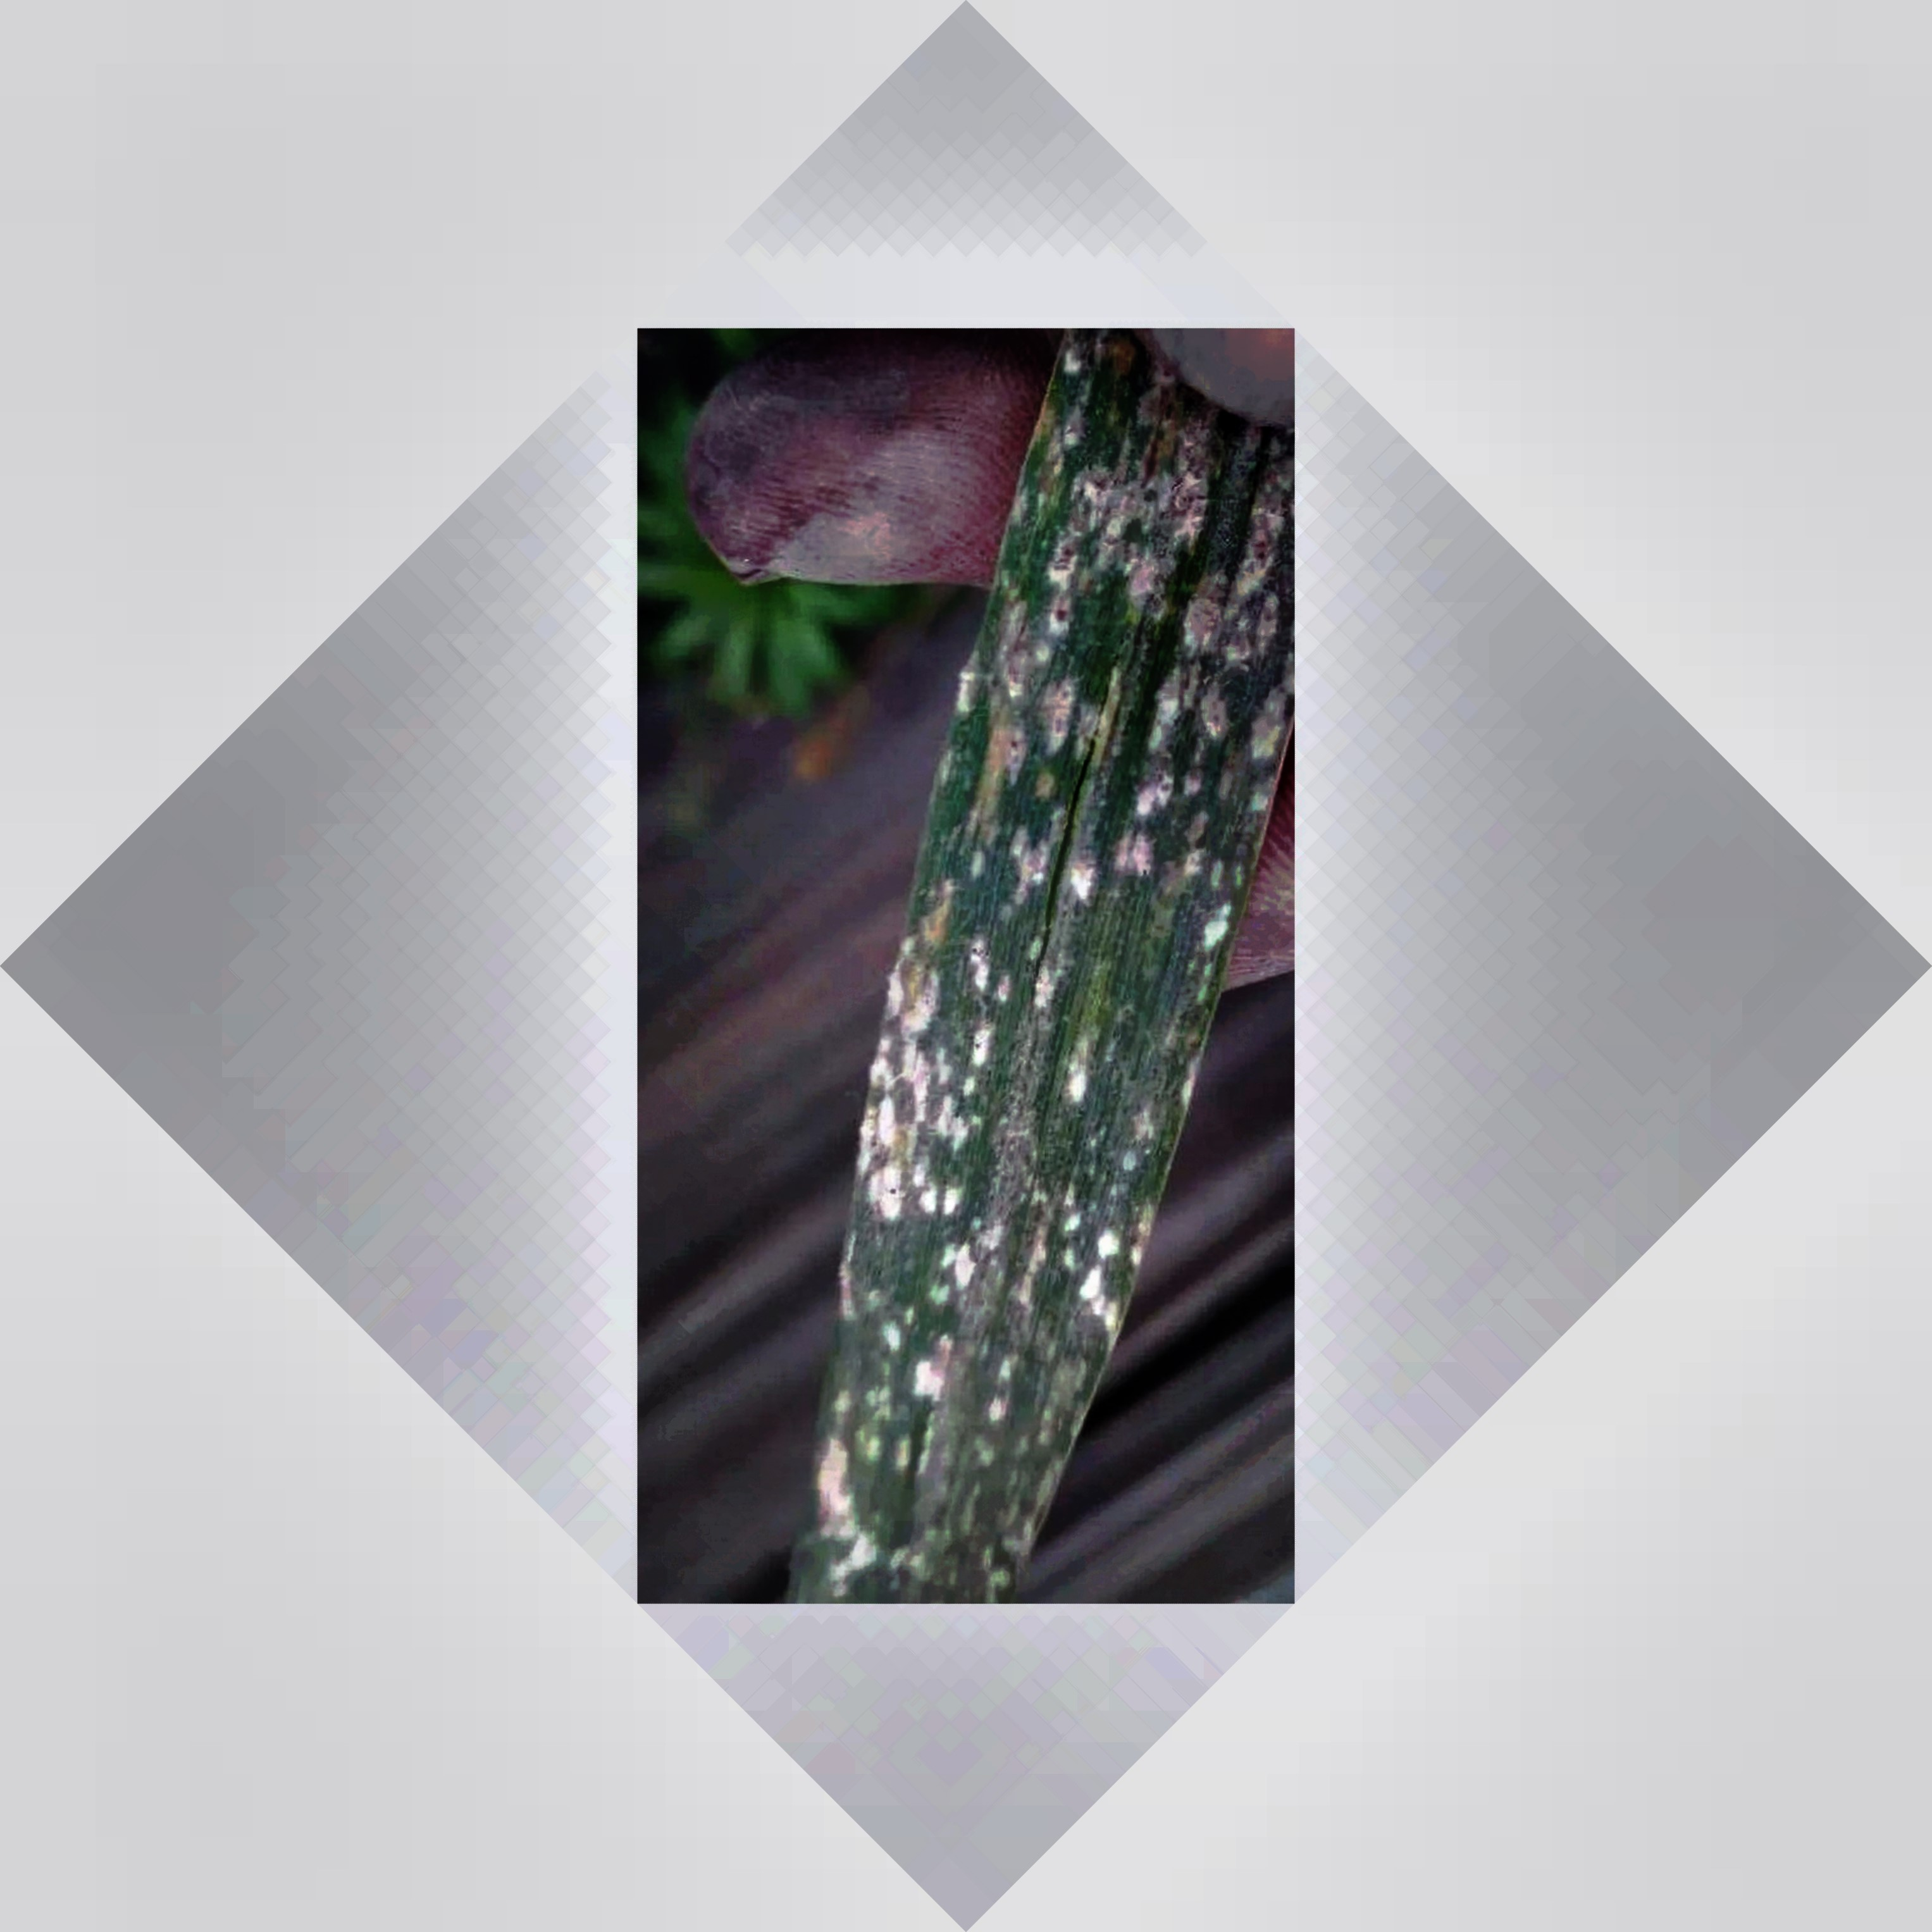Powdery Mildew: (826, 490, 1297, 1493)
